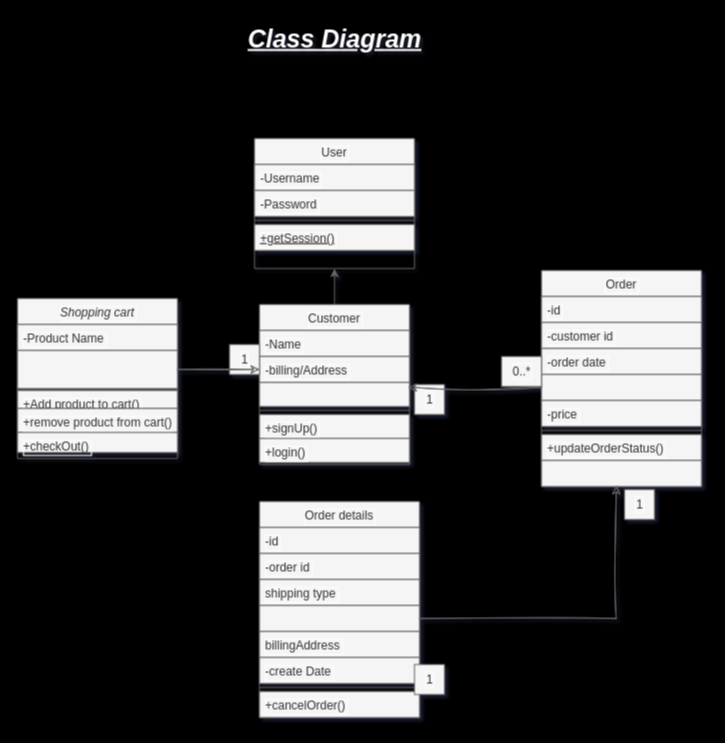
The diagram is 725 pixels wide and 743 high, and some of its shapes have lost their labels. Here are the shapes that lost their labels. From the top down, the centre of each, then its label:
At (97,369): "-Product ID".
At (621,387): "-status".
At (334,394): "-default shipping Address".
At (621,473): "+placeOrder()".
At (339,618): "shipping cost".
